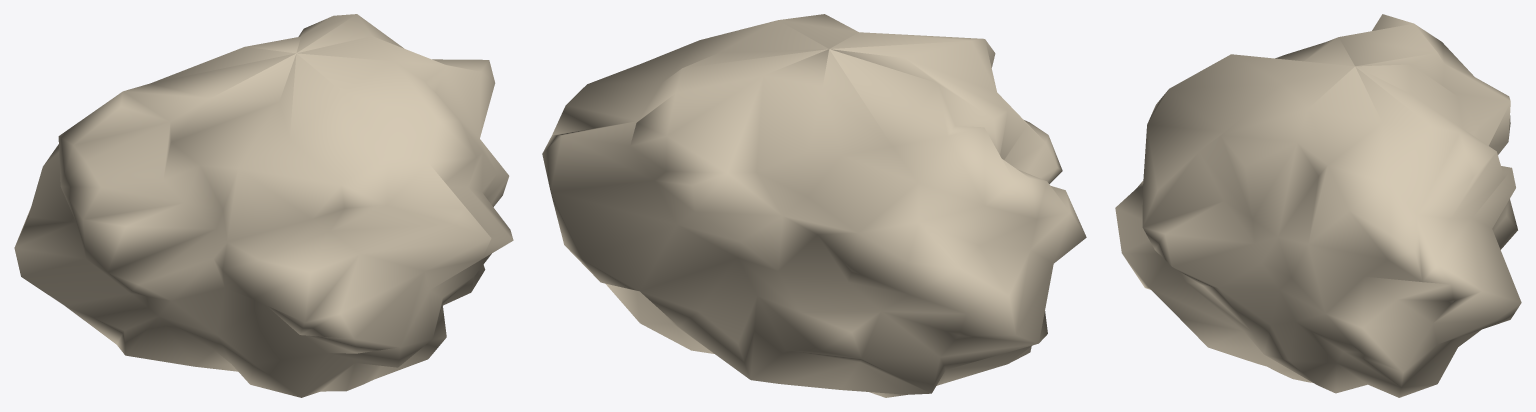
Rendered from rock0-lod1.glb.
The picture shows the model from 3 angles, left to right: view 1: azimuth 30°, elevation 25°; view 2: azimuth 150°, elevation 25°; view 3: azimuth 270°, elevation 25°; orthographic projection. The views are drawn at different scales.
Visible parts, largest first — view 1: rock0_rock; view 2: rock0_rock; view 3: rock0_rock.
Boxes of the visible parts, box(x1,y1,x2,y2) form: rock0_rock: box(14, 14, 513, 397); rock0_rock: box(542, 14, 1086, 397); rock0_rock: box(1115, 14, 1521, 397).
Size of the model in its own units: 2.33 by 1.5 by 1.82.
